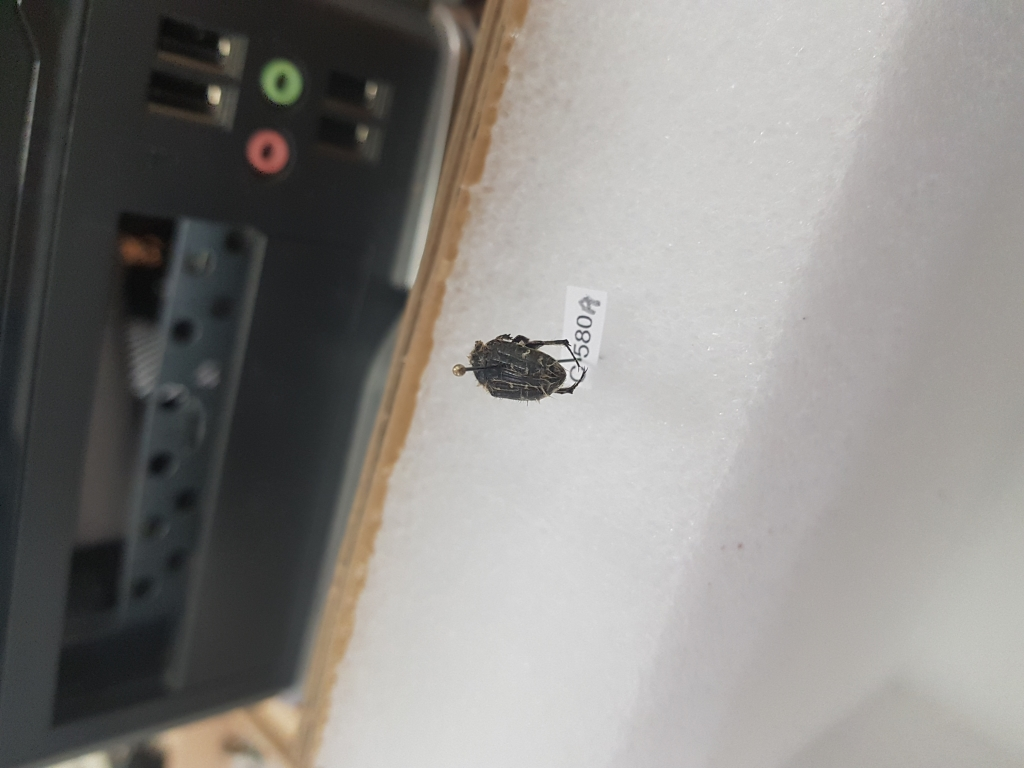Tropinota_hirta: (462, 320, 591, 405)
